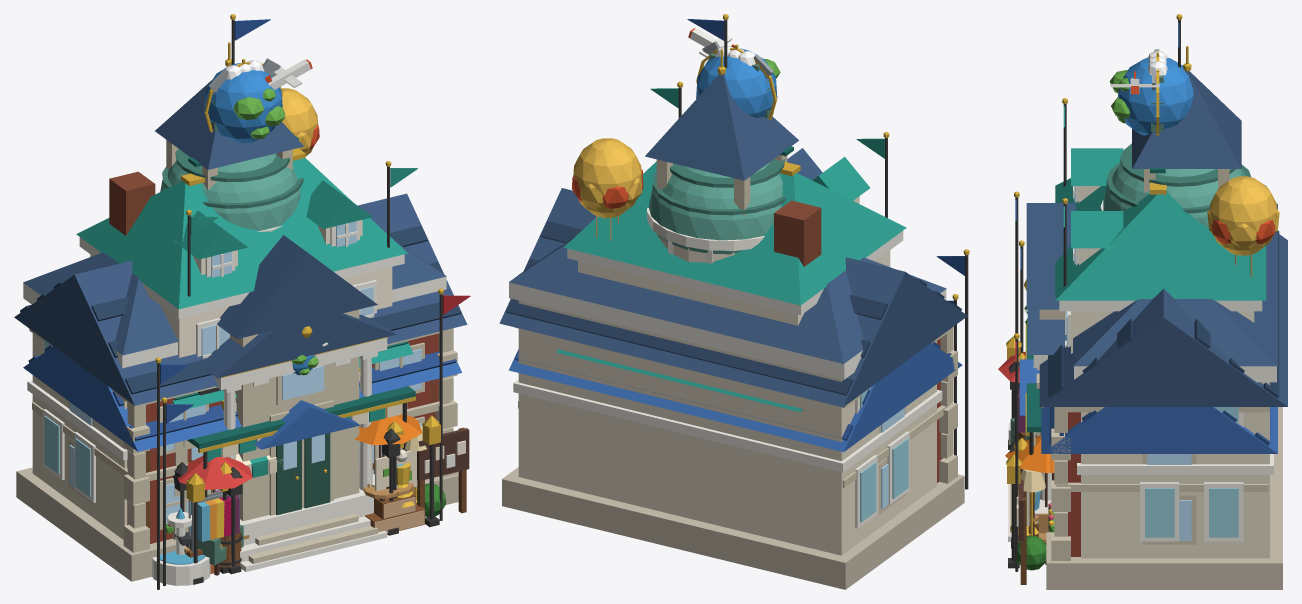
File: buildings.glb
3 renders of one model, left to right at view 1: azimuth 30°, elevation 25°; view 2: azimuth 150°, elevation 25°; view 3: azimuth 270°, elevation 25°, orthographic. The views are drawn at different scales.
Parts seen in each view (by area): view 1: bld_town_hall_2_main, bld_town_hall_3_main, bld_travel_agent_3_main, bld_town_hall_1_main, bld_travel_agent_2_main, bld_restaurant_2_main, bld_restaurant_3_main, bld_clothing_shop_2_main, bld_tool_store_2_main, bld_travel_agent_1_main, bld_tool_store_1_main, bld_furniture_store_1_main (+1 smaller); view 2: bld_town_hall_3_main, bld_town_hall_2_main, bld_travel_agent_3_main, bld_town_hall_1_main, bld_restaurant_3_main, bld_travel_agent_2_main; view 3: bld_town_hall_3_main, bld_town_hall_2_main, bld_travel_agent_3_main, bld_town_hall_1_main, bld_restaurant_2_main, bld_furniture_store_2_main, bld_restaurant_3_main.
Part boxes in pixels (bbox=[...]): bld_town_hall_2_main: bbox=[14, 42, 470, 589]; bld_town_hall_3_main: bbox=[16, 14, 458, 585]; bld_travel_agent_3_main: bbox=[76, 59, 440, 584]; bld_town_hall_1_main: bbox=[23, 345, 469, 585]; bld_travel_agent_2_main: bbox=[172, 341, 413, 511]; bld_restaurant_2_main: bbox=[177, 408, 422, 493]; bld_restaurant_3_main: bbox=[109, 60, 415, 483]; bld_clothing_shop_2_main: bbox=[192, 449, 417, 552]; bld_tool_store_2_main: bbox=[174, 494, 424, 557]; bld_travel_agent_1_main: bbox=[210, 448, 417, 573]; bld_tool_store_1_main: bbox=[219, 495, 415, 571]; bld_furniture_store_1_main: bbox=[197, 482, 413, 575]; bld_town_hall_3_main: bbox=[502, 14, 964, 589]; bld_town_hall_2_main: bbox=[499, 49, 969, 514]; bld_travel_agent_3_main: bbox=[564, 28, 906, 325]; bld_town_hall_1_main: bbox=[508, 294, 962, 455]; bld_restaurant_3_main: bbox=[715, 46, 821, 266]; bld_travel_agent_2_main: bbox=[556, 349, 802, 412]; bld_town_hall_3_main: bbox=[1008, 14, 1282, 589]; bld_town_hall_2_main: bbox=[1009, 46, 1287, 571]; bld_travel_agent_3_main: bbox=[1006, 52, 1279, 568]; bld_town_hall_1_main: bbox=[1016, 240, 1277, 584]; bld_restaurant_2_main: bbox=[998, 351, 1051, 564]; bld_furniture_store_2_main: bbox=[1018, 469, 1045, 535]; bld_restaurant_3_main: bbox=[1037, 51, 1167, 540].
Size of the model in its own units: 4 by 5.51 by 2.94.
